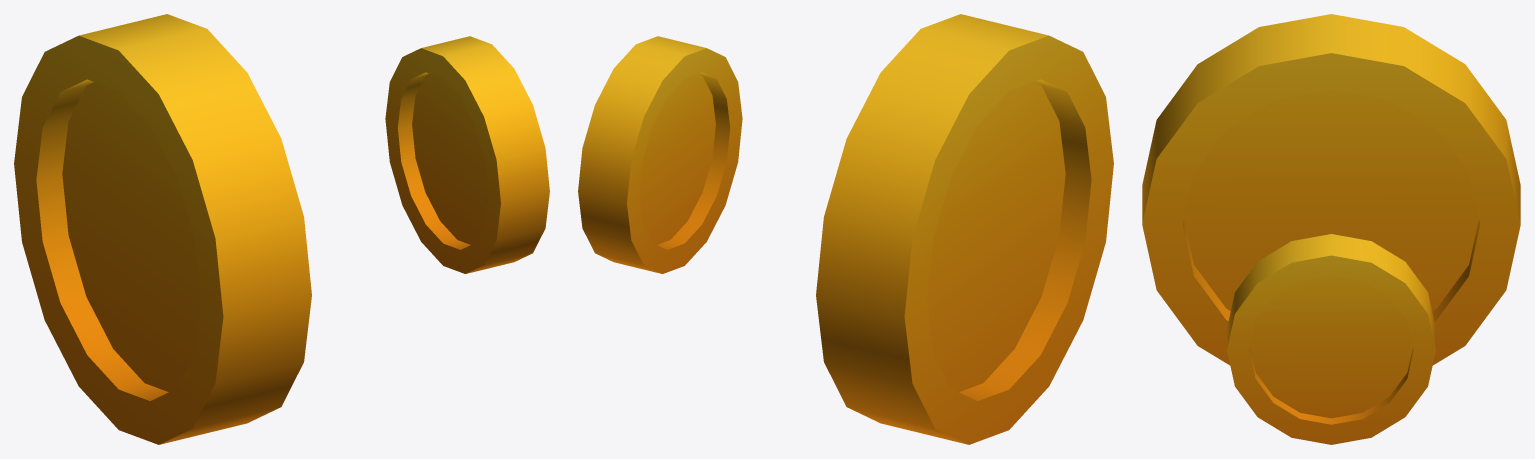
File: Coin.fbx
The picture shows the model from 3 angles, left to right: view 1: azimuth 30°, elevation 25°; view 2: azimuth 150°, elevation 25°; view 3: azimuth 270°, elevation 25°; orthographic projection. The views are drawn at different scales.
Visible parts, largest first — view 1: Cylinder.004, Cylinder.003; view 2: Cylinder.004, Cylinder.003; view 3: Cylinder.004, Cylinder.003.
Boxes of the visible parts, x1,y1,x2,y2 form: Cylinder.004: [14, 14, 311, 444]; Cylinder.003: [385, 36, 549, 273]; Cylinder.004: [816, 14, 1113, 444]; Cylinder.003: [578, 36, 742, 273]; Cylinder.004: [1142, 14, 1520, 365]; Cylinder.003: [1227, 234, 1435, 444].
Bounding box in the file's own units: 126 × 122 × 122.
